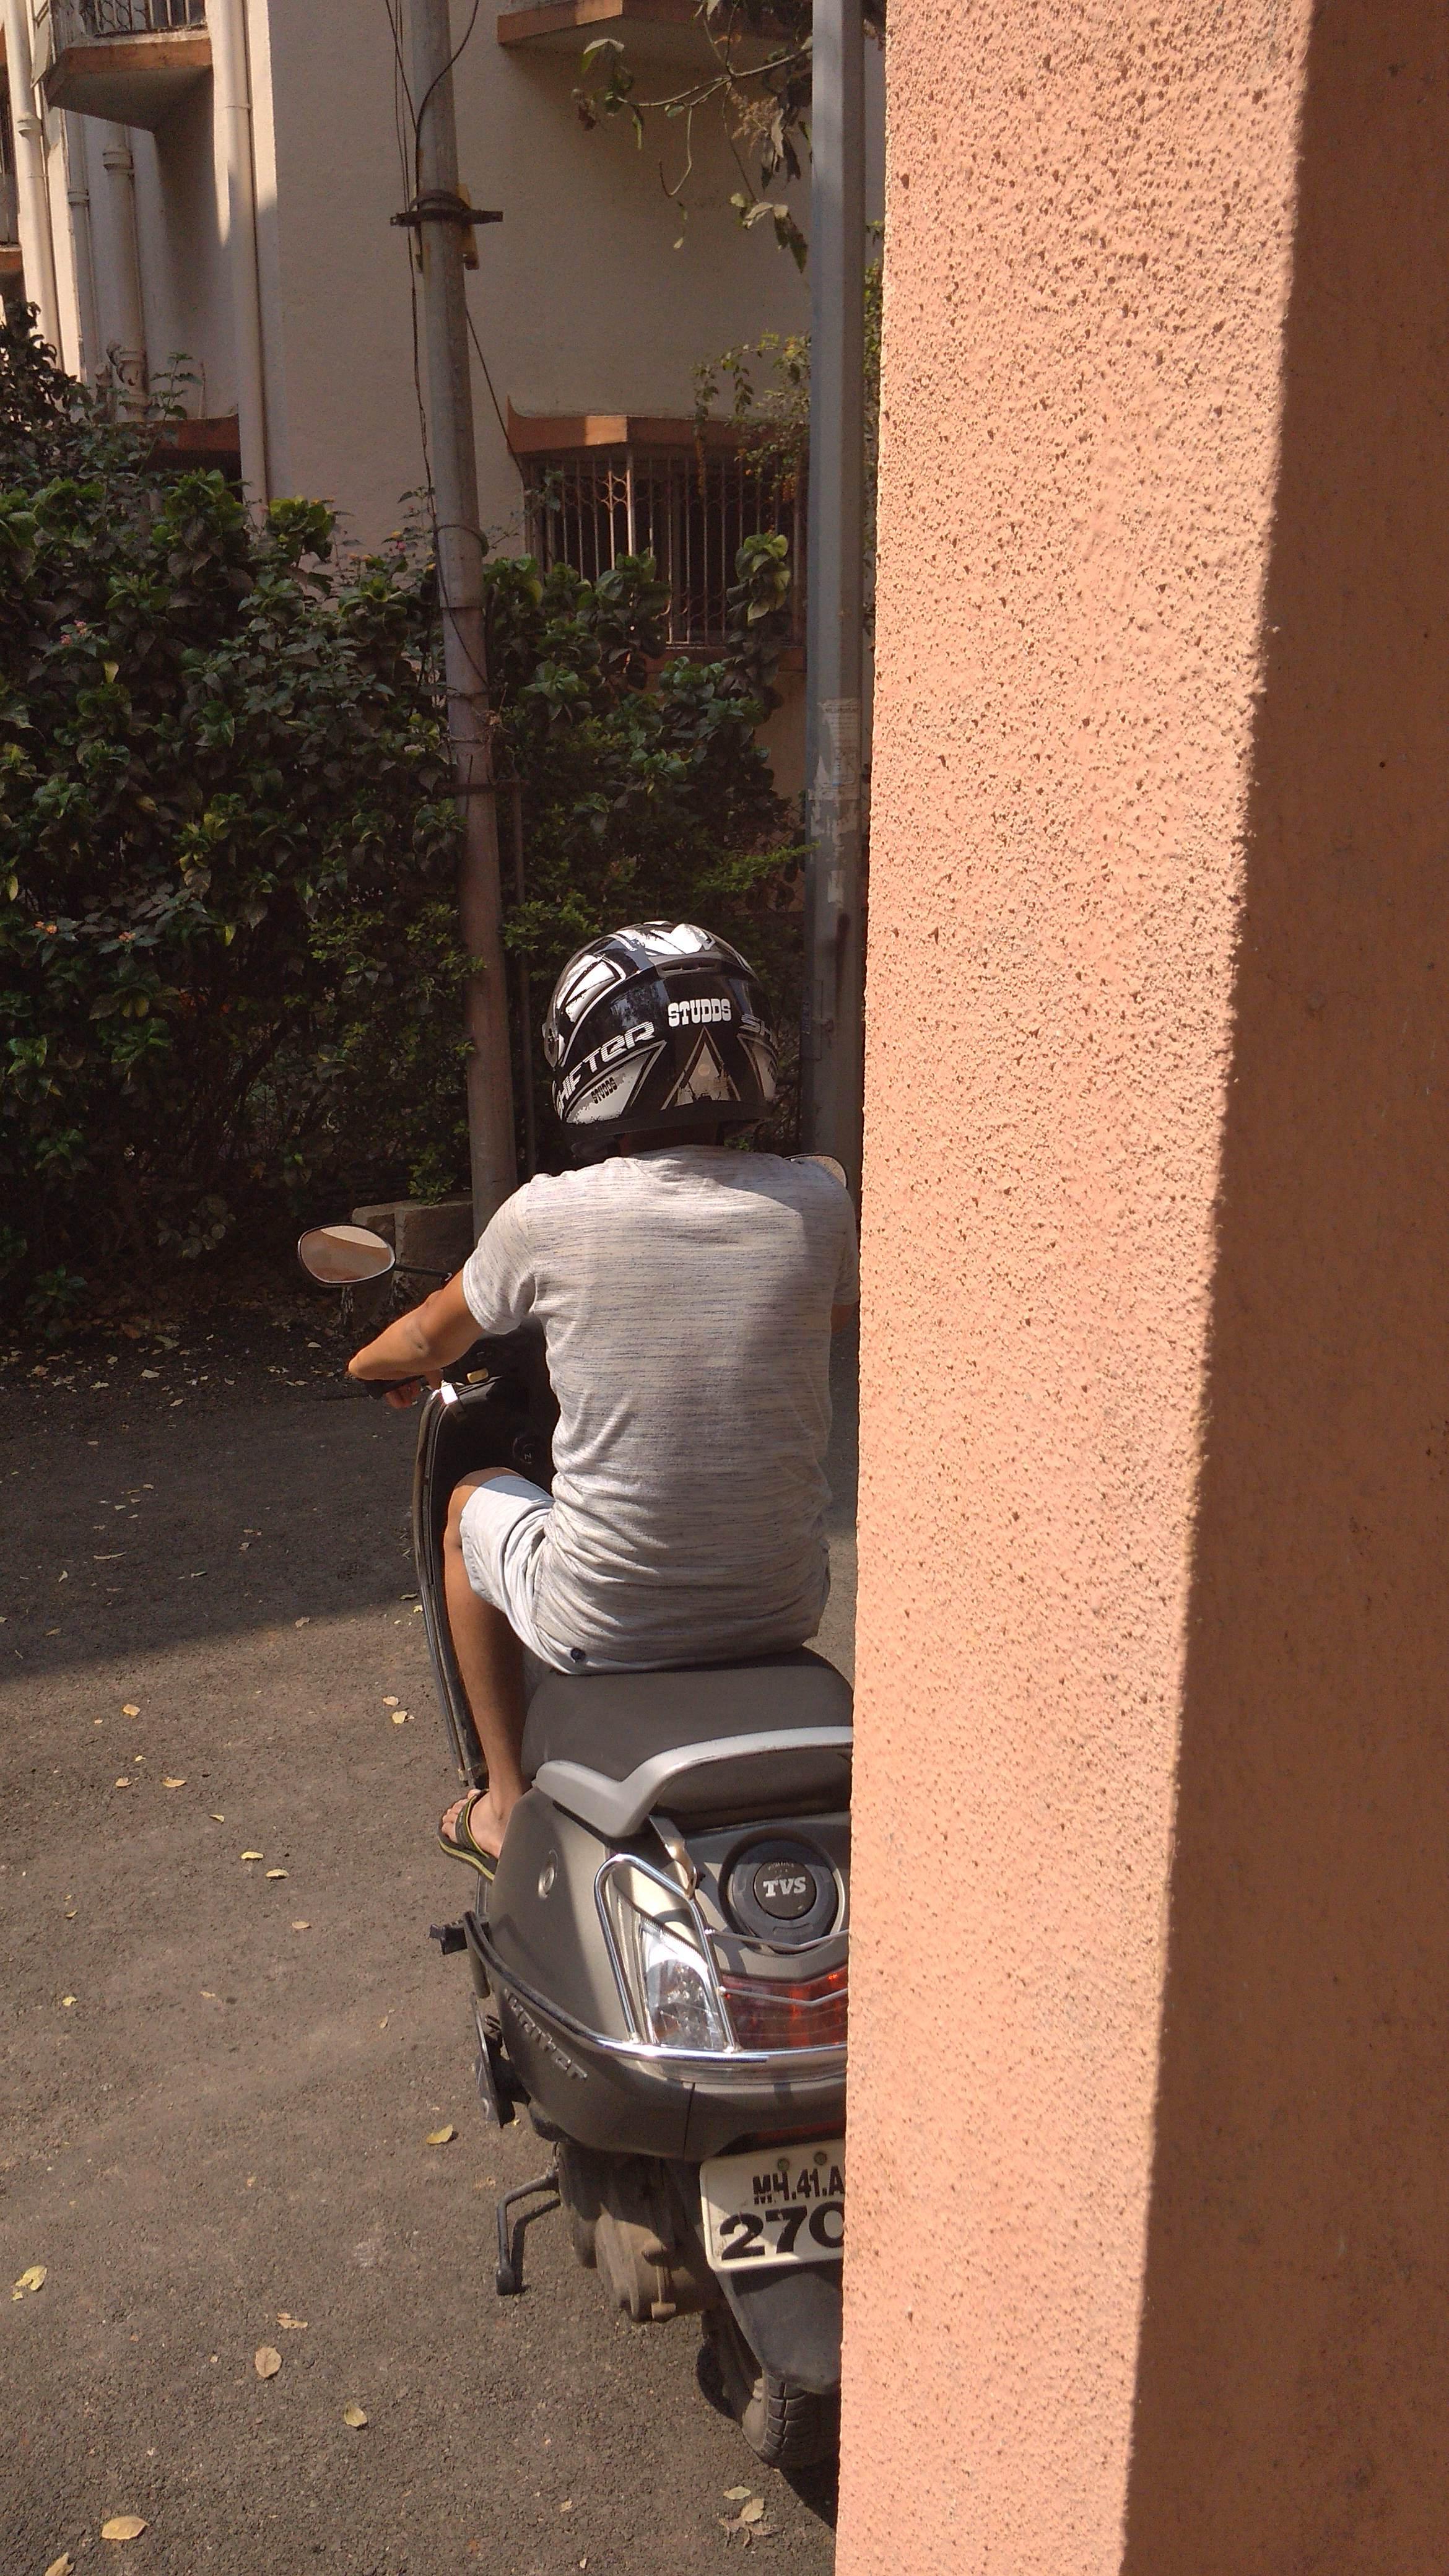helmet: (389, 888, 860, 1663)
